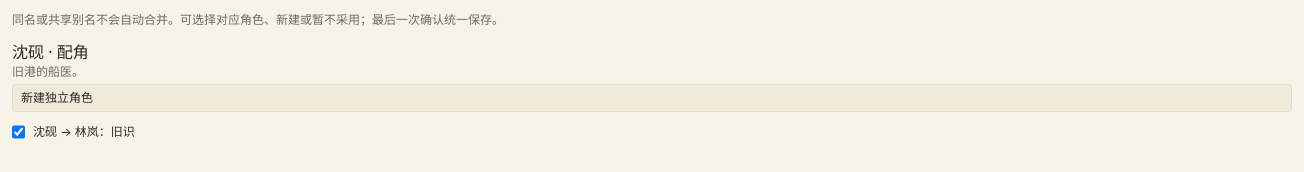
Scenario: 源角色改成暂不采用时，指向已有角色的关系一并去掉
The image size is (1304, 172).
Select "暂不采用，保留候选" in the dropdown named "采用方式：沈砚 · shen" at (652,98), box [12,84,1292,112]
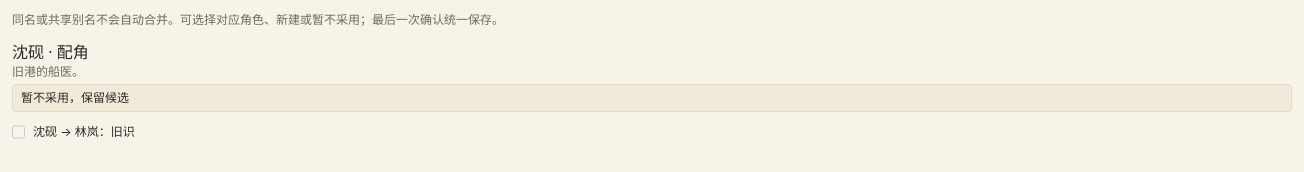
Check: the checkbox labelled "沈砚 → 林岚：旧识" is disabled, box [12,124,25,140]
